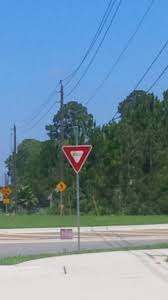yield: (59, 144, 92, 174)
